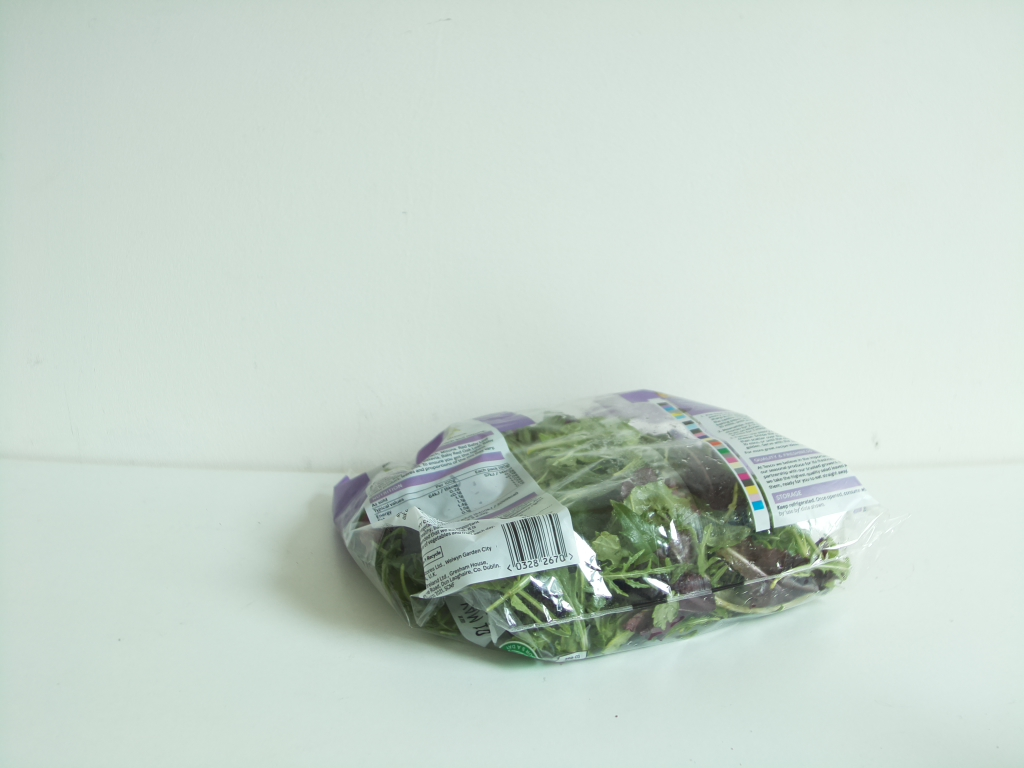salad: (340, 391, 875, 668)
